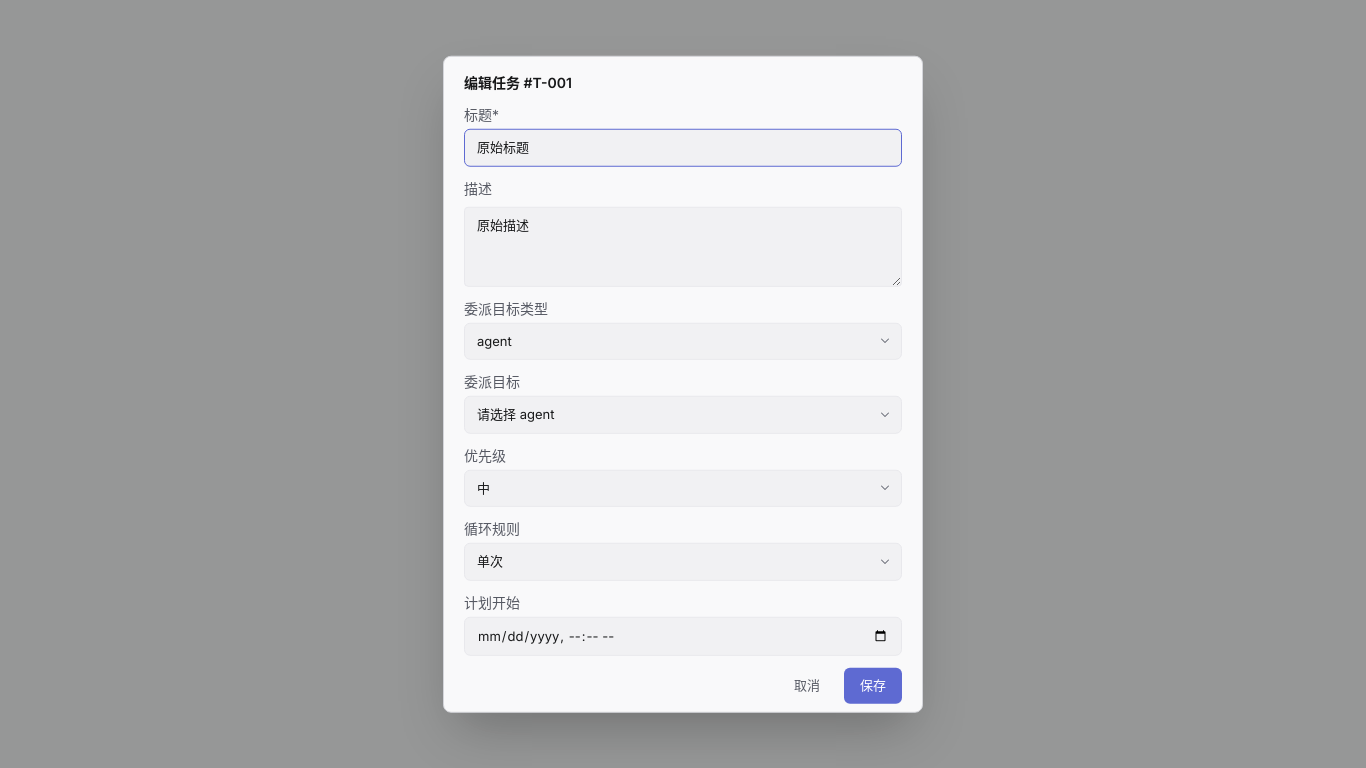
Test: EditTaskDialog 提交 › update 失败 → 显示错误信息且不关闭回调
Expected: the field showing "原始标题" is shown, [464, 129, 902, 166]
Click the button "保存".
click(873, 686)  # box [844, 668, 902, 703]
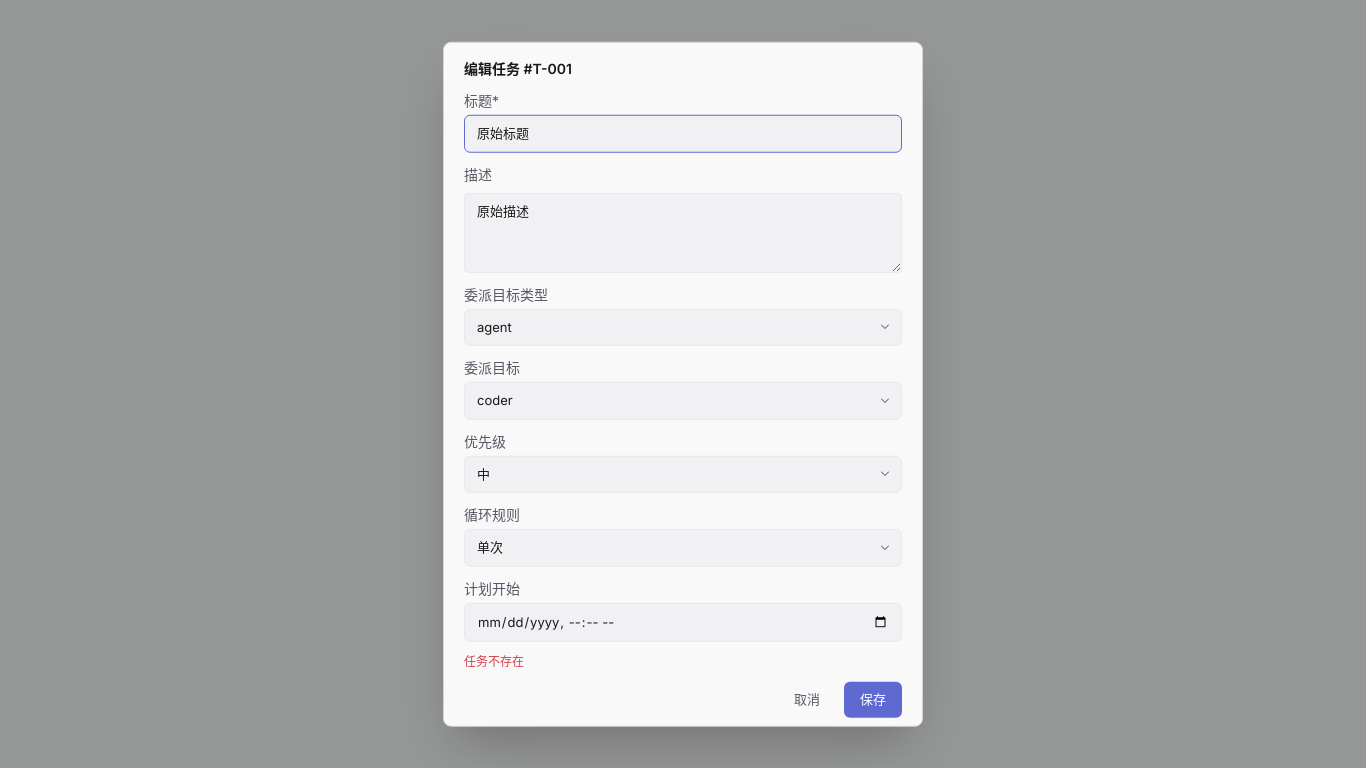
Now the text "任务不存在" is shown, box [464, 654, 524, 669]
